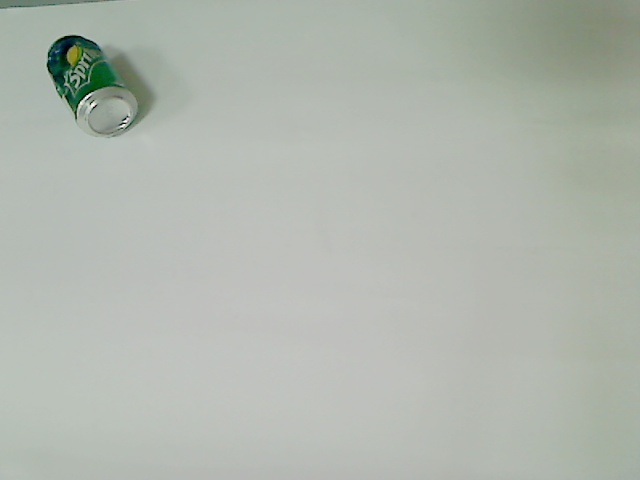can: (44, 34, 143, 140)
